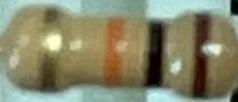Black: (146, 19, 168, 84)
Brown: (191, 12, 213, 96)
Orange: (102, 19, 125, 89)
Side-Gold: (41, 7, 64, 91)
